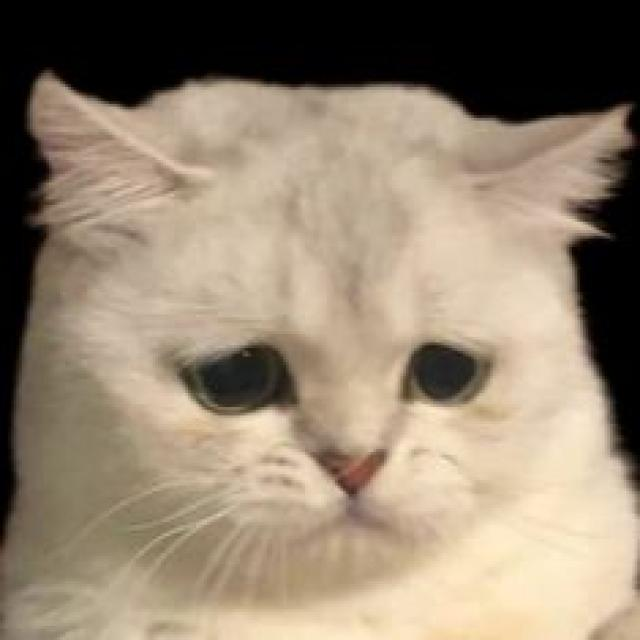Sad: (142, 238, 540, 576)
